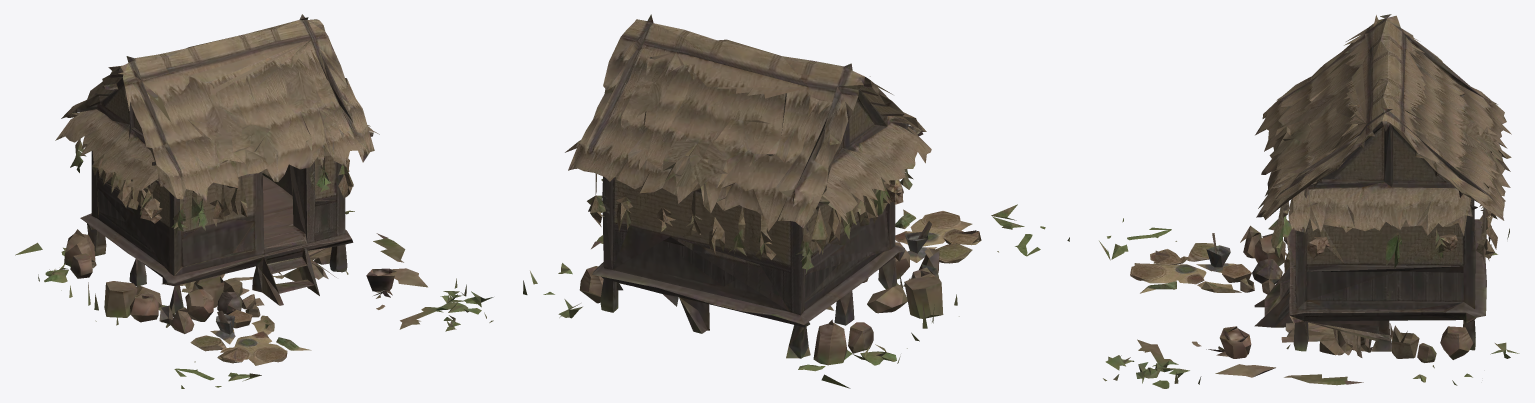
The model's file is house.glb.
3 renders of one model, left to right at view 1: azimuth 30°, elevation 25°; view 2: azimuth 150°, elevation 25°; view 3: azimuth 270°, elevation 25°, orthographic. The views are drawn at different scales.
Parts seen in each view (by area): view 1: output_unwrapped; view 2: output_unwrapped; view 3: output_unwrapped.
Part boxes in pixels (<box>): output_unwrapped: <box>15,14,493,388</box>; output_unwrapped: <box>523,14,1069,388</box>; output_unwrapped: <box>1099,14,1519,388</box>.
Bounding box in the file's own units: 6.6 × 4.45 × 7.
1 material, 1 textured.
